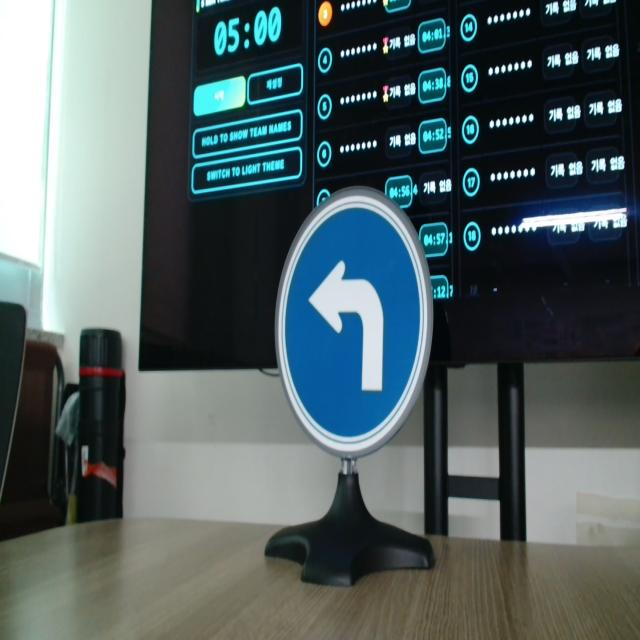left_direction: (280, 187, 430, 456)
